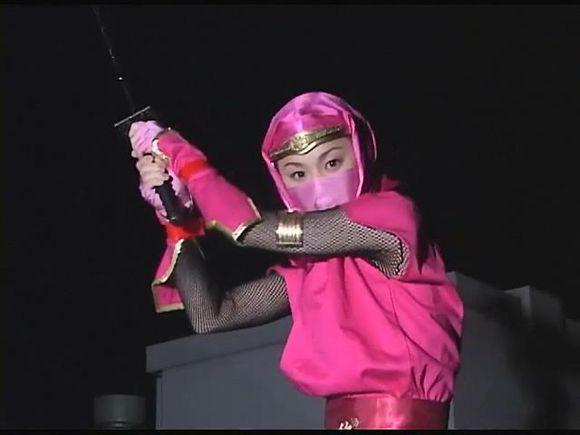OK: (285, 136, 360, 225)
